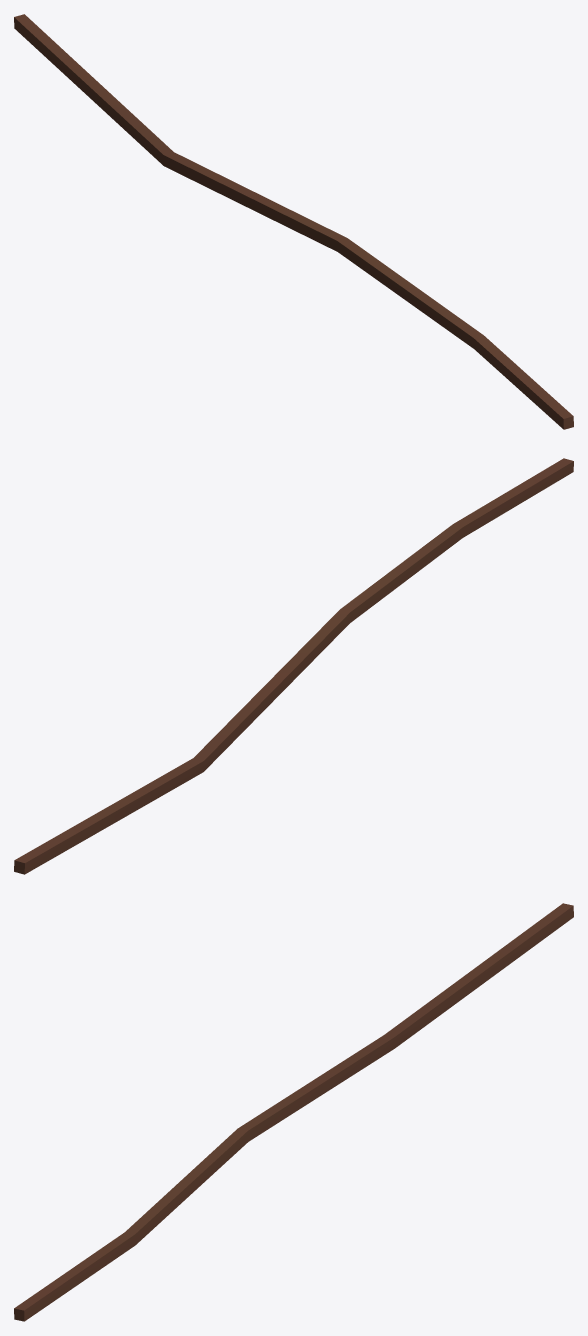
File: RreinforcingBars_A_4.glb
3 views of the same model, one above another, from view 1: azimuth 30°, elevation 25°; view 2: azimuth 150°, elevation 25°; view 3: azimuth 330°, elevation 25° (orthographic).
Parts seen in each view (by area): view 1: RreinforcingBars_A_4; view 2: RreinforcingBars_A_4; view 3: RreinforcingBars_A_4.
Boxes of the visible parts, x1=… form: RreinforcingBars_A_4: x1=14, y1=14, x2=573, y2=429; RreinforcingBars_A_4: x1=14, y1=458, x2=573, y2=874; RreinforcingBars_A_4: x1=14, y1=903, x2=573, y2=1321.
Size of the model in its own units: 0.0764 by 0.0773 by 1.97.
1 material, 1 textured.
